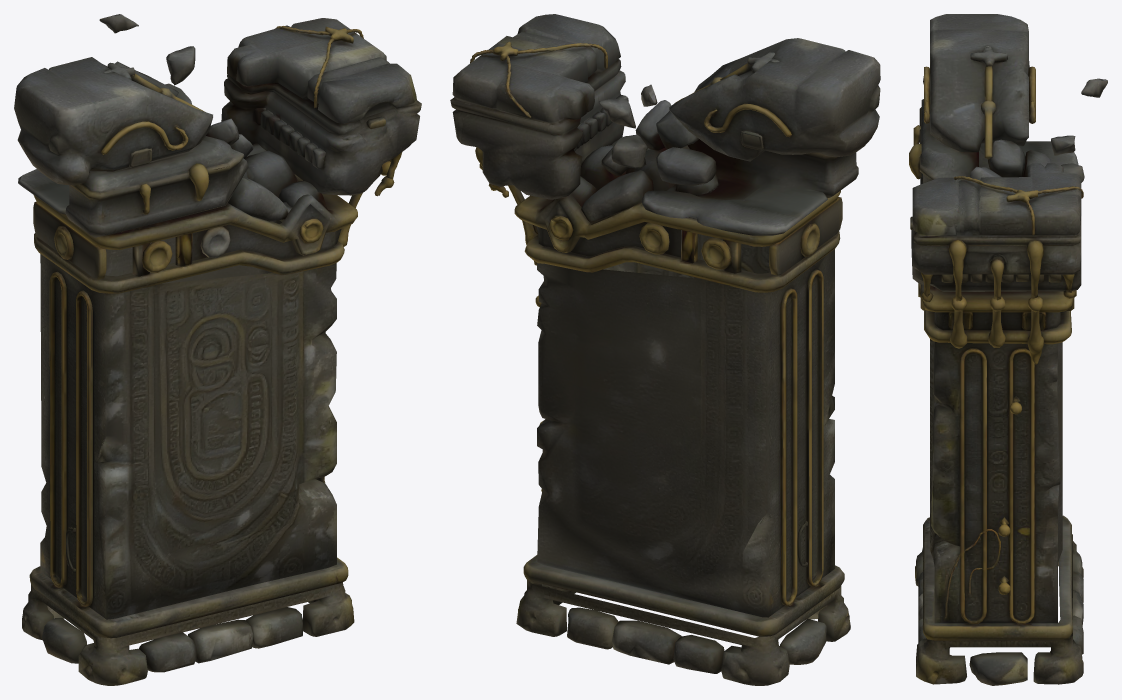
Rendered from ch3_broken_pylon_a_LOD0.glb.
The picture shows the model from 3 angles, left to right: view 1: azimuth 30°, elevation 25°; view 2: azimuth 150°, elevation 25°; view 3: azimuth 270°, elevation 25°; orthographic projection. The views are drawn at different scales.
Parts seen in each view (by area): view 1: tripo_node_d6c99cd5-9faa-415a-9e3d-cf958fd86ac3; view 2: tripo_node_d6c99cd5-9faa-415a-9e3d-cf958fd86ac3; view 3: tripo_node_d6c99cd5-9faa-415a-9e3d-cf958fd86ac3.
Part boxes in pixels (x1=…): tripo_node_d6c99cd5-9faa-415a-9e3d-cf958fd86ac3: x1=14, y1=14, x2=421, y2=685; tripo_node_d6c99cd5-9faa-415a-9e3d-cf958fd86ac3: x1=450, y1=14, x2=880, y2=685; tripo_node_d6c99cd5-9faa-415a-9e3d-cf958fd86ac3: x1=909, y1=14, x2=1107, y2=685.
Size of the model in its own units: 0.6621 by 0.998 by 0.334.
1 material, 1 textured.
